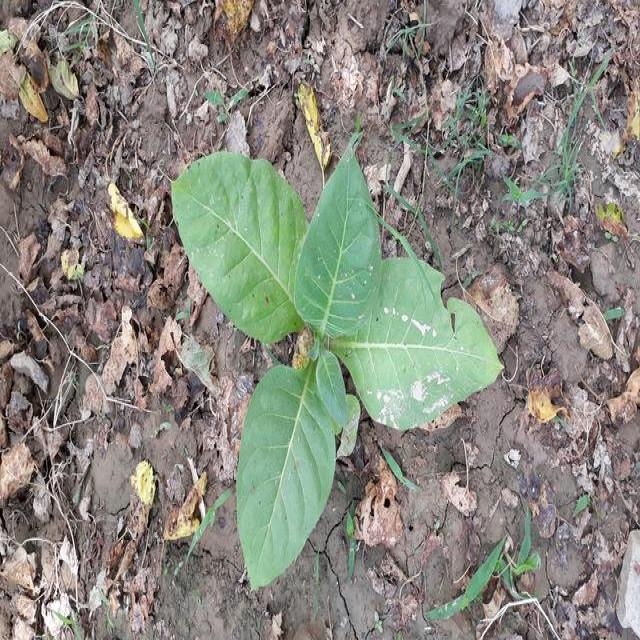crop: (168, 144, 502, 580)
